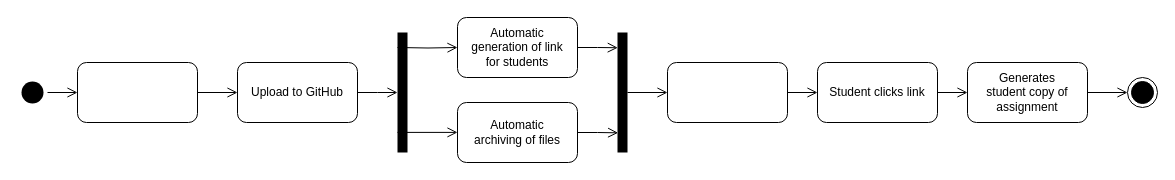
Some shapes in this 1175 by 180 pixel diagram are drawn without their labels. Each missing label, with the centre of its shape:
"Create or modify any assignment" goes at [137,92].
"Share link with students" goes at [727,92].
